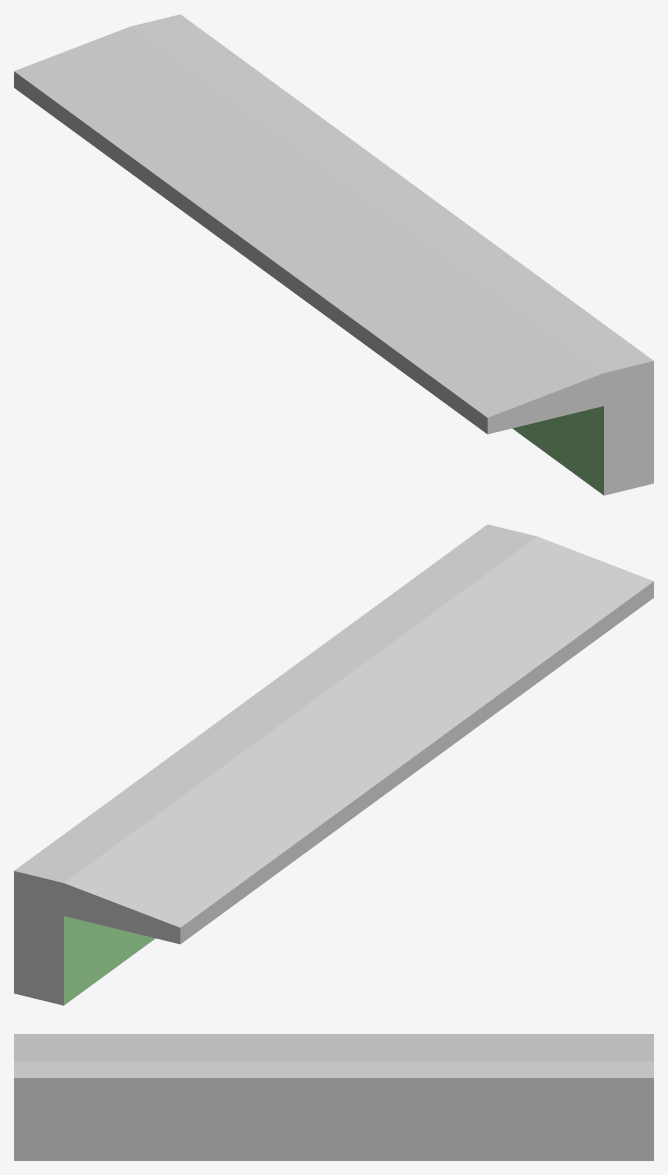
Rendered from color wall.fbx.
The picture shows the model from 3 angles, top to bottom: view 1: azimuth 30°, elevation 25°; view 2: azimuth 150°, elevation 25°; view 3: azimuth 270°, elevation 25°; orthographic projection. The views are drawn at different scales.
Visible parts, largest first — view 1: Cube.013; view 2: Cube.013; view 3: Cube.013.
Part boxes in pixels (x1,y1,x2,y2): Cube.013: (14, 14, 653, 495); Cube.013: (14, 524, 653, 1005); Cube.013: (14, 1034, 653, 1160).
Bounding box in the file's own units: 2253 × 1586 × 11100.
